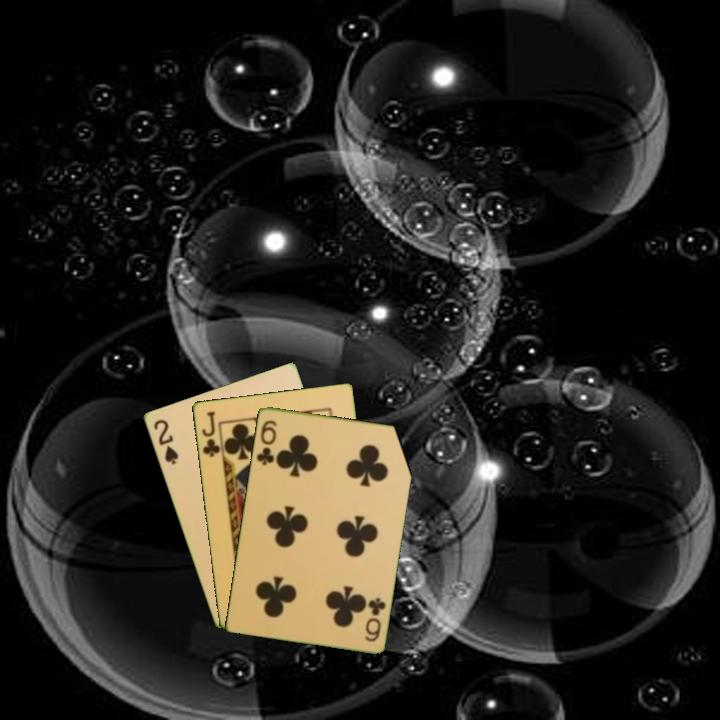2s: (150, 416, 181, 467)
6c: (253, 416, 280, 468), (361, 594, 388, 644)
Jc: (198, 408, 223, 460)
